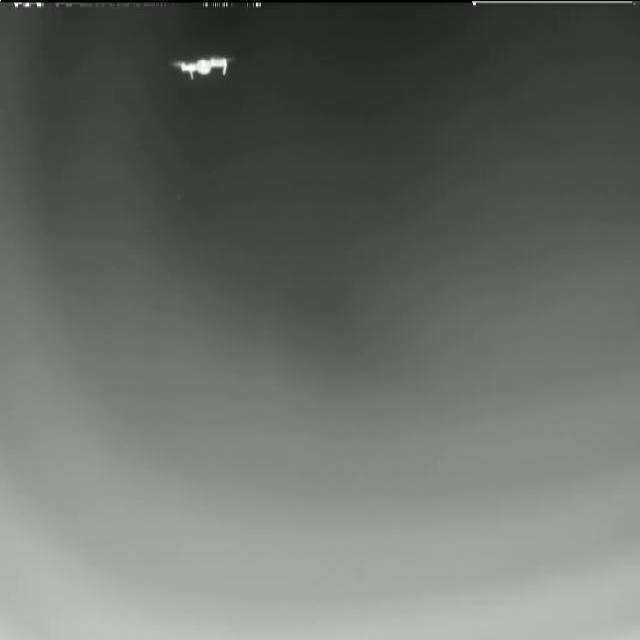DRONE: (169, 50, 236, 81)
